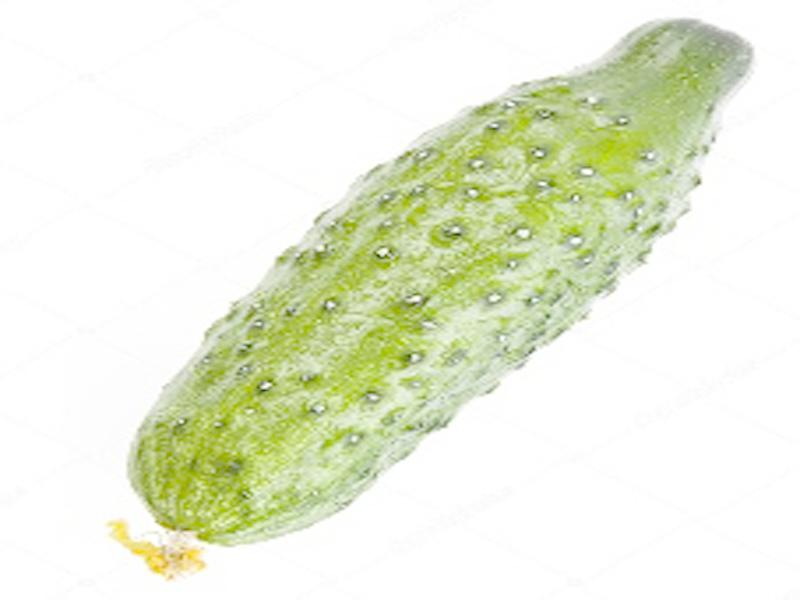Cucumber: (109, 21, 754, 579)
